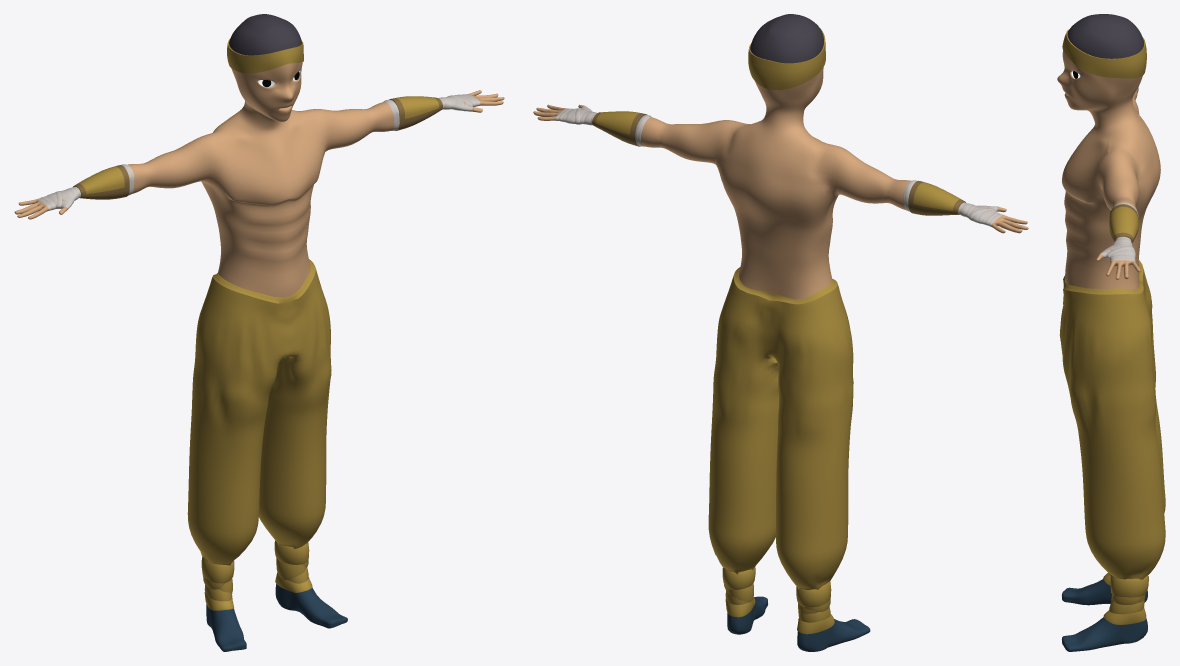
Rendered from Wirabaya.fbx.
3 views of the same model, side by side, from view 1: azimuth 30°, elevation 25°; view 2: azimuth 150°, elevation 25°; view 3: azimuth 270°, elevation 25° (orthographic).
Parts seen in each view (by area): view 1: pantsu, body.00, hmm, stock, bandage.001, band.001; view 2: pantsu, body.00, hmm, stock, band.001, bandage.001; view 3: pantsu, body.00, stock, hmm, band.001, bandage.001.
Part boxes in pixels (x1,y1,x2,y2): pantsu: (187,259,331,565); body.00: (14,14,504,297); hmm: (201,540,312,610); stock: (206,584,347,651); bandage.001: (37,94,480,210); band.001: (227,38,303,73); pantsu: (708,267,853,589); body.00: (533,14,1028,299); hmm: (722,567,834,634); stock: (727,596,870,651); band.001: (748,28,825,89); bandage.001: (555,106,1002,226); pantsu: (1059,260,1165,579); body.00: (1057,14,1160,289); stock: (1061,578,1147,651); hmm: (1103,573,1148,624); band.001: (1062,29,1146,78); bandage.001: (1100,87,1138,262).
Bounding box in the file's own units: 466 × 554 × 90.05.
